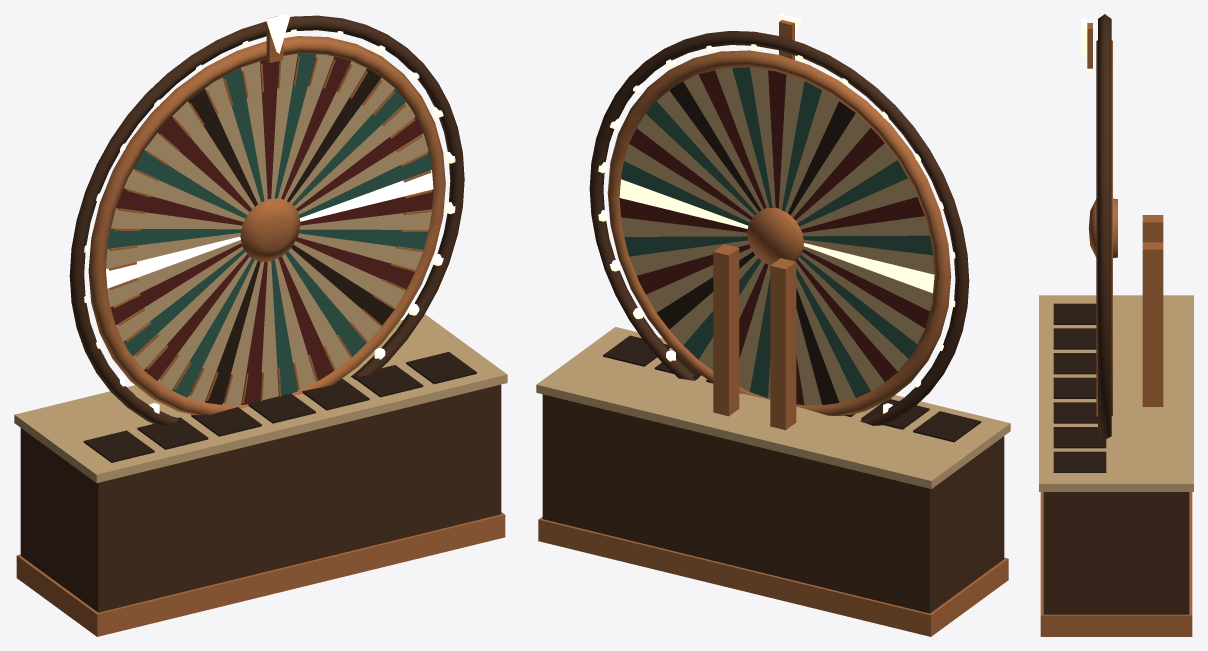
File: money_wheel.glb
The picture shows the model from 3 angles, left to right: view 1: azimuth 30°, elevation 25°; view 2: azimuth 150°, elevation 25°; view 3: azimuth 270°, elevation 25°; orthographic projection. The views are drawn at different scales.
Parts seen in each view (by area): view 1: money_wheel wood, money_wheel stone, money_wheel metal, money_wheel felt, money_wheel carpet, money_wheel sign, money_wheel lamp; view 2: money_wheel wood, money_wheel stone, money_wheel metal, money_wheel felt, money_wheel carpet, money_wheel sign, money_wheel lamp; view 3: money_wheel wood, money_wheel stone, money_wheel metal, money_wheel sign, money_wheel lamp.
Boxes of the visible parts, x1,y1,x2,y2 form: money_wheel wood: (20,15,501,612); money_wheel stone: (14,53,507,483); money_wheel metal: (16,15,505,636); money_wheel felt: (107,53,431,397); money_wheel carpet: (110,56,433,404); money_wheel sign: (83,68,476,462); money_wheel lamp: (84,14,455,413); money_wheel wood: (542,31,1004,613); money_wheel stone: (536,67,1010,488); money_wheel metal: (538,20,1008,636); money_wheel felt: (621,67,932,398); money_wheel carpet: (619,70,929,405); money_wheel sign: (603,81,981,442); money_wheel lamp: (598,14,955,413); money_wheel wood: (1043,14,1189,614); money_wheel stone: (1039,295,1193,491); money_wheel metal: (1040,23,1192,636); money_wheel sign: (1053,303,1106,472); money_wheel lamp: (1081,18,1087,56).
Size of what is drawn, in the model's own units: 3.06 by 3.93 by 1.06.
